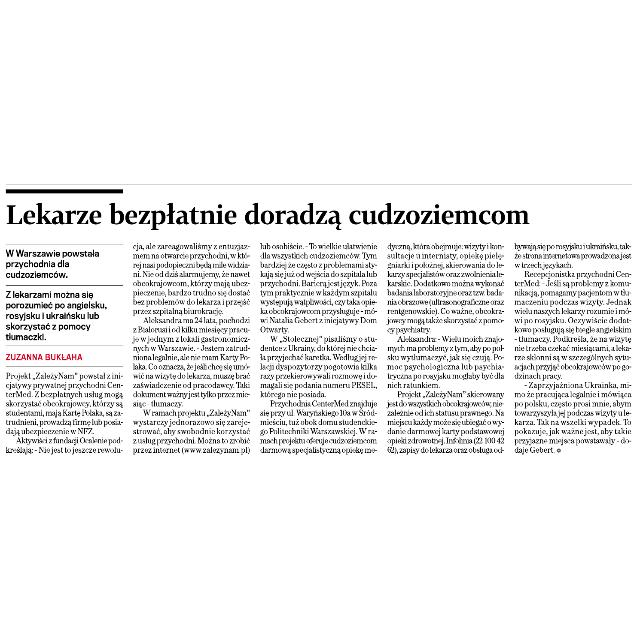author: (3, 348, 91, 364)
body: (512, 236, 640, 456), (384, 236, 511, 456), (256, 238, 380, 456), (130, 240, 254, 456), (2, 368, 128, 456)
lead: (3, 245, 112, 342)
title: (4, 195, 536, 235)
